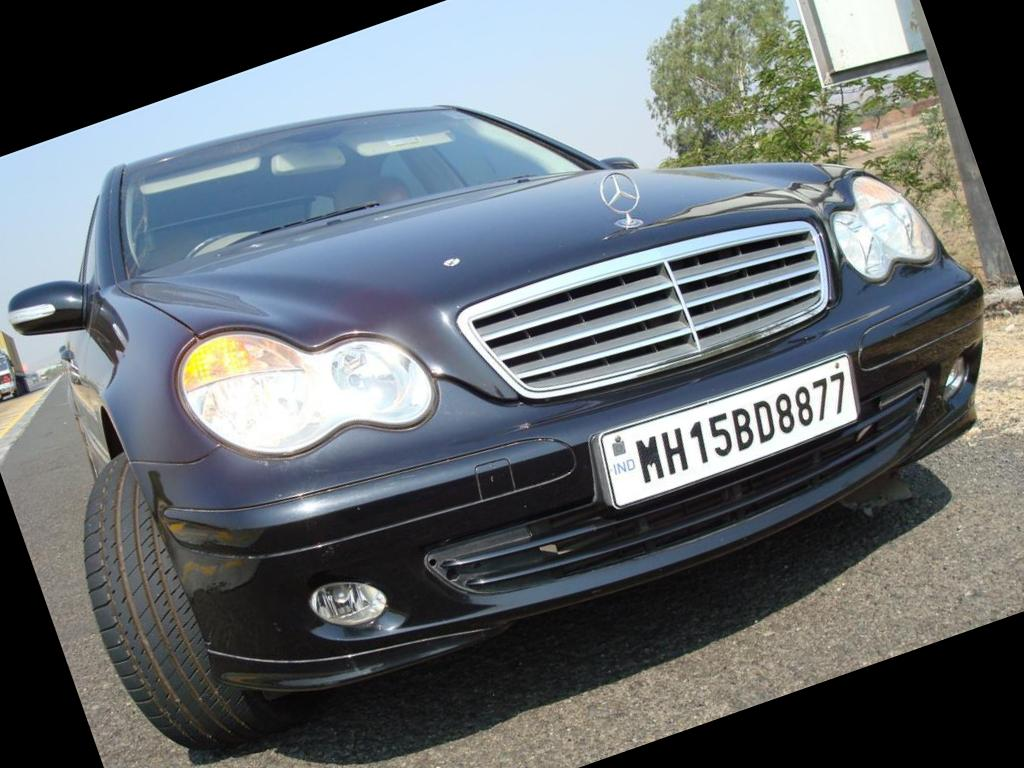plate: (580, 341, 881, 516)
